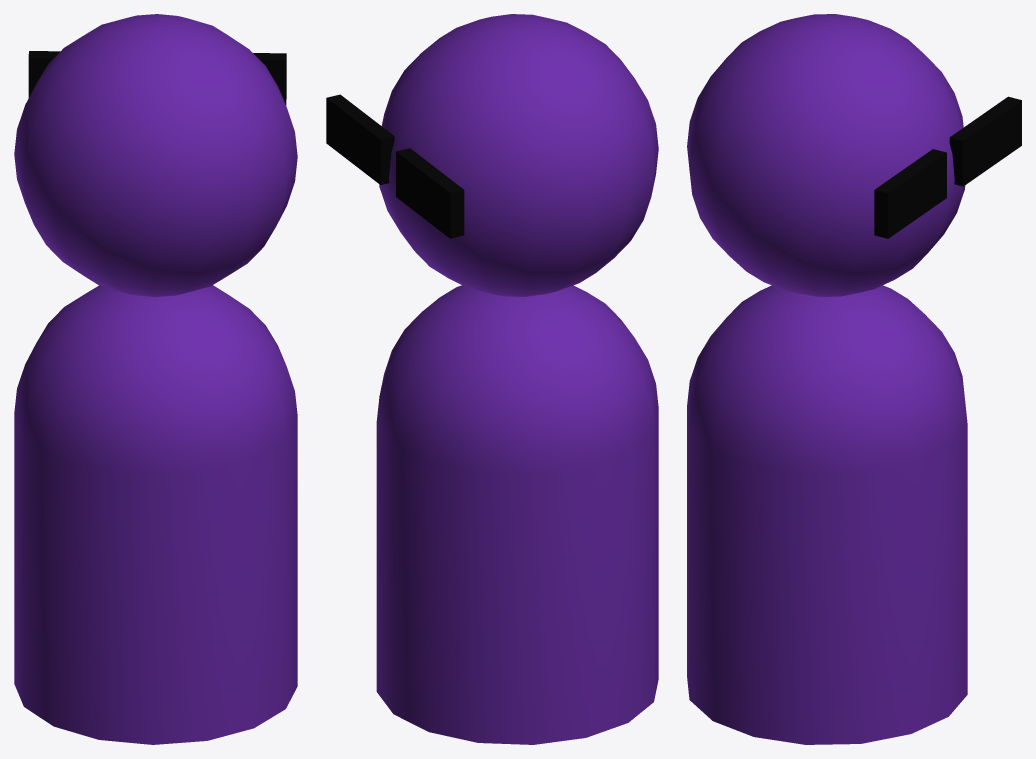
The model's file is purple customer.fbx.
3 views of the same model, side by side, from view 1: azimuth 30°, elevation 25°; view 2: azimuth 150°, elevation 25°; view 3: azimuth 270°, elevation 25° (orthographic).
Visible parts, largest first — view 1: purple customer, right eyebrow.001; view 2: purple customer, right eyebrow.001; view 3: purple customer, right eyebrow.001.
Boxes of the visible parts, bbox=[...] form: purple customer: bbox=[14, 14, 297, 744]; right eyebrow.001: bbox=[28, 51, 286, 105]; purple customer: bbox=[376, 14, 658, 744]; right eyebrow.001: bbox=[326, 94, 464, 238]; purple customer: bbox=[687, 14, 967, 744]; right eyebrow.001: bbox=[874, 96, 1021, 238].
Bounding box in the file's own units: 50.3 × 112 × 51.62.
